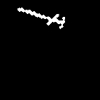double_crochet: (18, 8, 64, 28)
